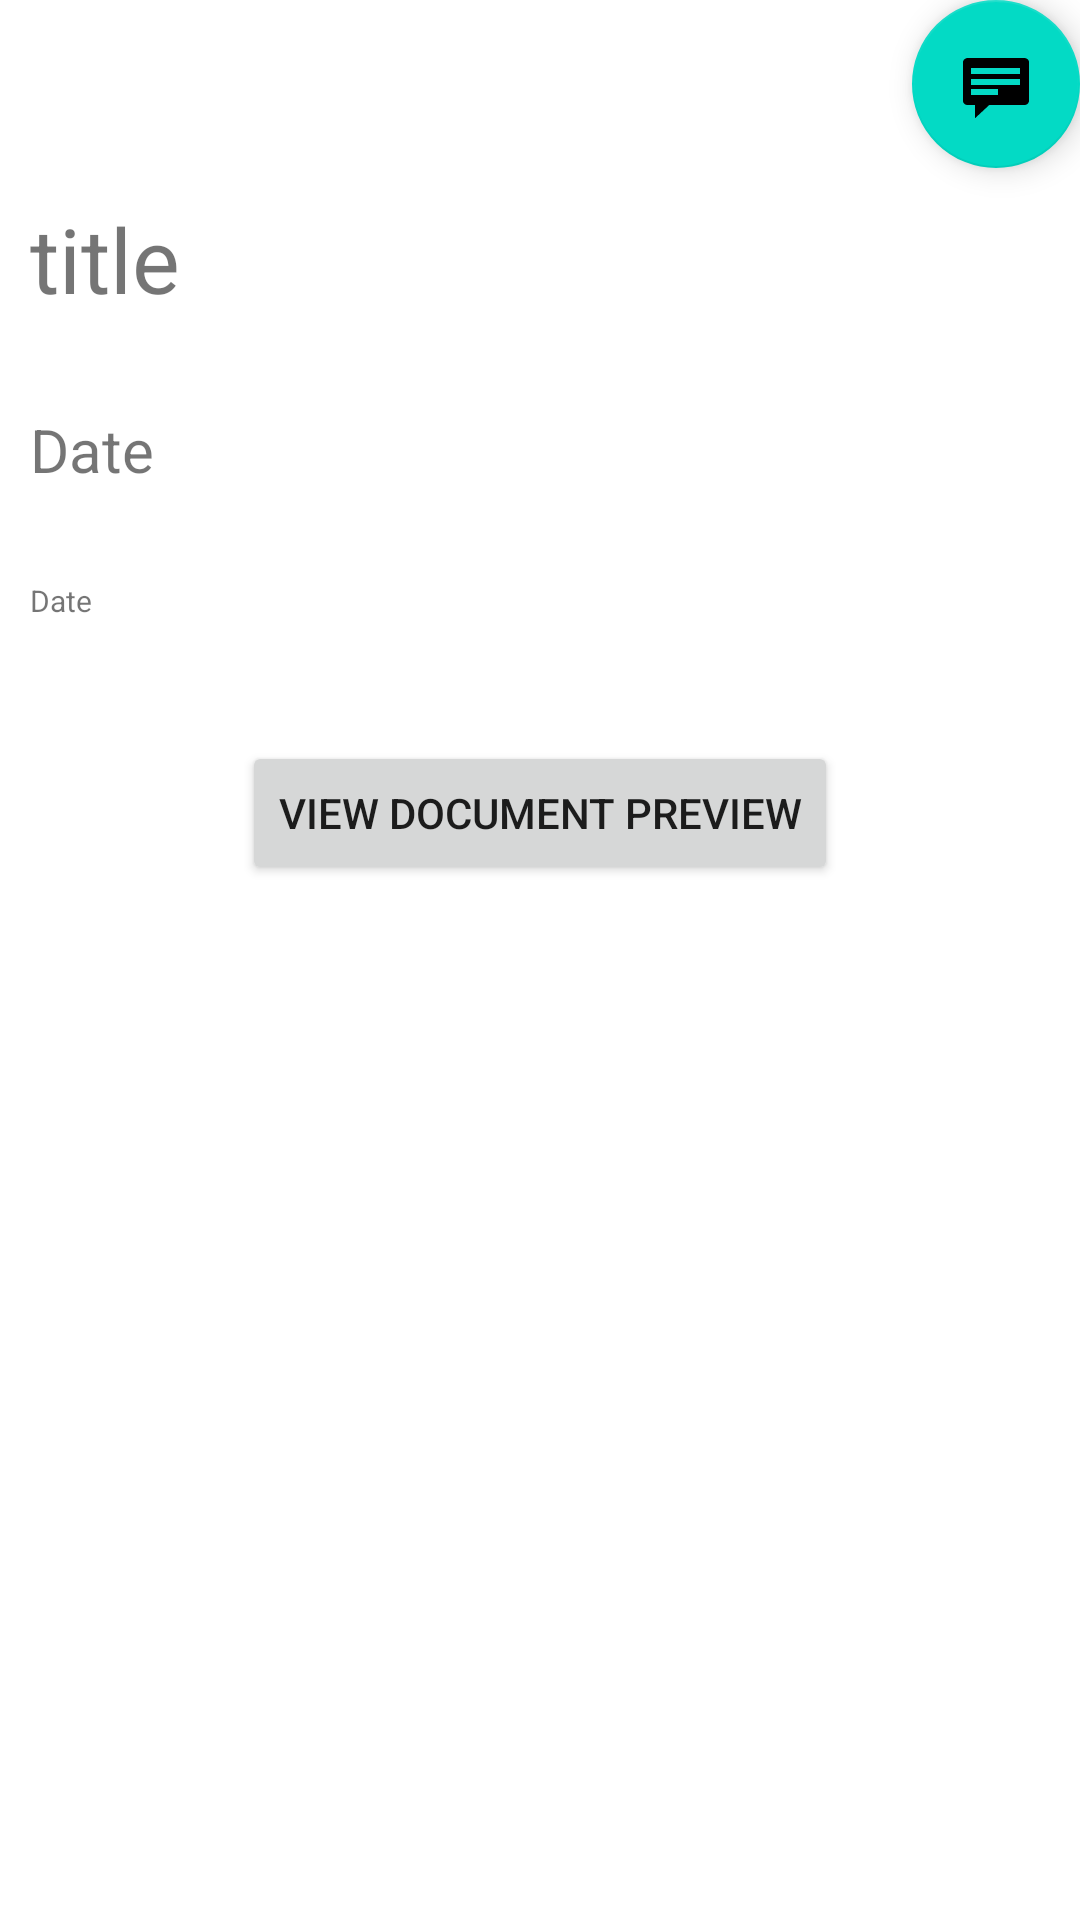

Screen size 1080x1920. Icon name, then its box in pixels as (x1, y1, x2, y2):
chat: (912, 0, 1080, 168)
